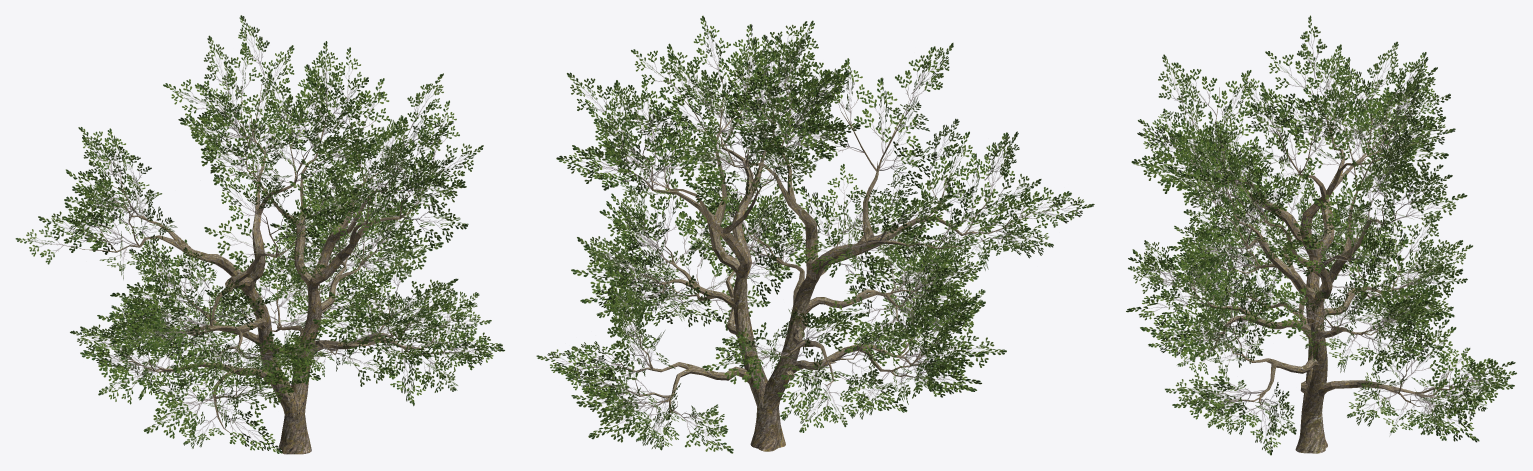
Rendered from oak_gnarled.glb.
3 views of the same model, side by side, from view 1: azimuth 30°, elevation 25°; view 2: azimuth 150°, elevation 25°; view 3: azimuth 270°, elevation 25° (orthographic). The views are drawn at different scales.
Parts seen in each view (by area): view 1: mossybark02_0_w; view 2: mossybark02_0_w; view 3: mossybark02_0_w.
Part boxes in pixels (left/top/right/bottom): mossybark02_0_w: left=15, top=15, right=504, bottom=454; mossybark02_0_w: left=536, top=15, right=1094, bottom=453; mossybark02_0_w: left=1126, top=15, right=1516, bottom=455.
Size of the model in its own units: 14.31 by 12 by 11.14.
2 materials, 2 textured.
